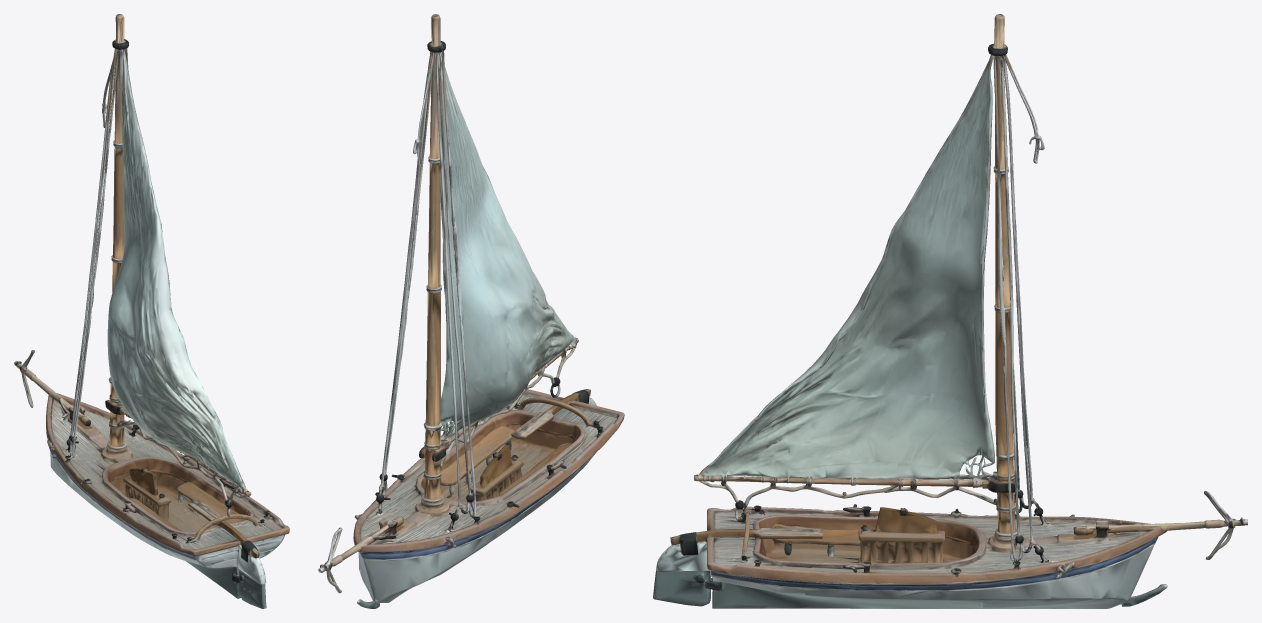
The model's file is fan_boat.glb.
3 renders of one model, left to right at view 1: azimuth 30°, elevation 25°; view 2: azimuth 150°, elevation 25°; view 3: azimuth 270°, elevation 25°, orthographic. The views are drawn at different scales.
Parts seen in each view (by area): view 1: tripo_node_aad4ecfd-deab-4cc0-abf0-aa68864b3251; view 2: tripo_node_aad4ecfd-deab-4cc0-abf0-aa68864b3251; view 3: tripo_node_aad4ecfd-deab-4cc0-abf0-aa68864b3251.
Boxes of the visible parts, left/top/right/bottom form: tripo_node_aad4ecfd-deab-4cc0-abf0-aa68864b3251: left=14, top=14, right=289, bottom=608; tripo_node_aad4ecfd-deab-4cc0-abf0-aa68864b3251: left=318, top=14, right=624, bottom=608; tripo_node_aad4ecfd-deab-4cc0-abf0-aa68864b3251: left=653, top=14, right=1247, bottom=608.
Size of the model in its own units: 0.2382 by 0.9796 by 0.8917.
Materials: 1 (1 with a texture image).
